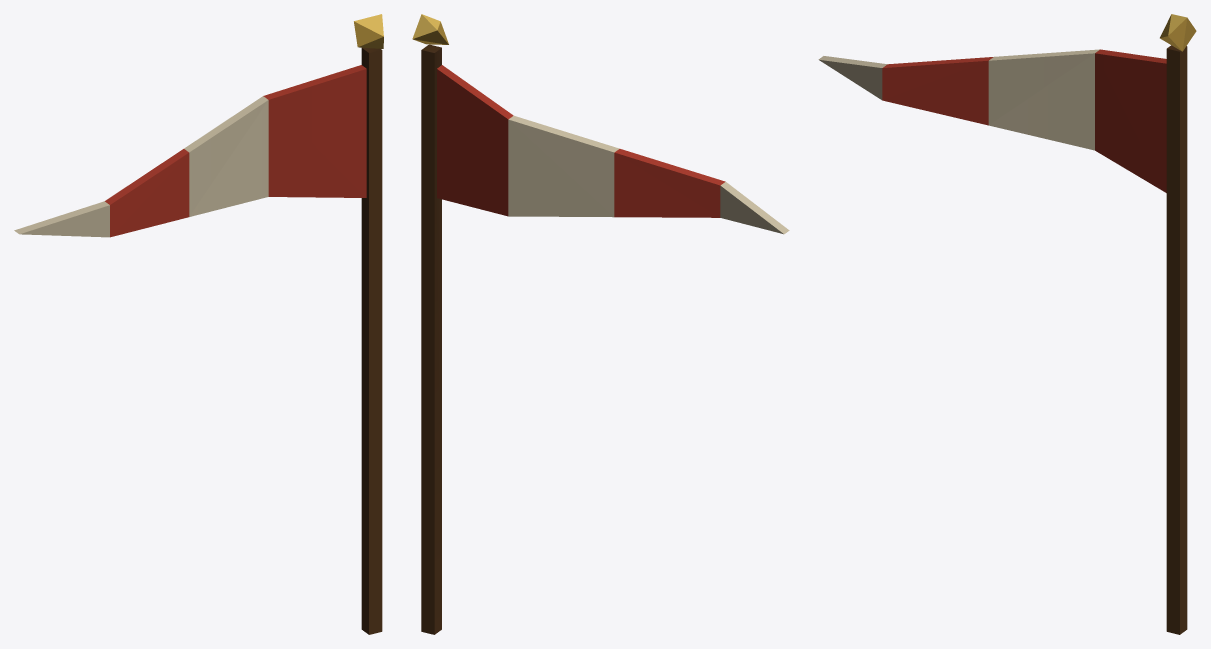
Rendered from gd_sailboat_pennant.glb.
The picture shows the model from 3 angles, left to right: view 1: azimuth 30°, elevation 25°; view 2: azimuth 150°, elevation 25°; view 3: azimuth 330°, elevation 25°; orthographic projection.
Visible parts, largest first — view 1: base; view 2: base; view 3: base.
Part boxes in pixels (bbox=[...]): base: bbox=[14, 14, 383, 634]; base: bbox=[412, 14, 789, 634]; base: bbox=[818, 14, 1196, 634].
Size of the model in its own units: 0.2372 by 0.38 by 0.036.
